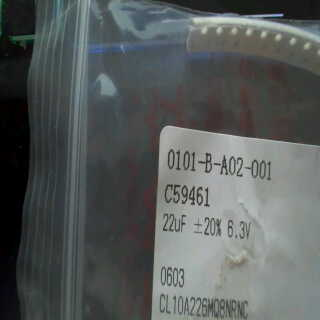22uF: (160, 210, 188, 238)
